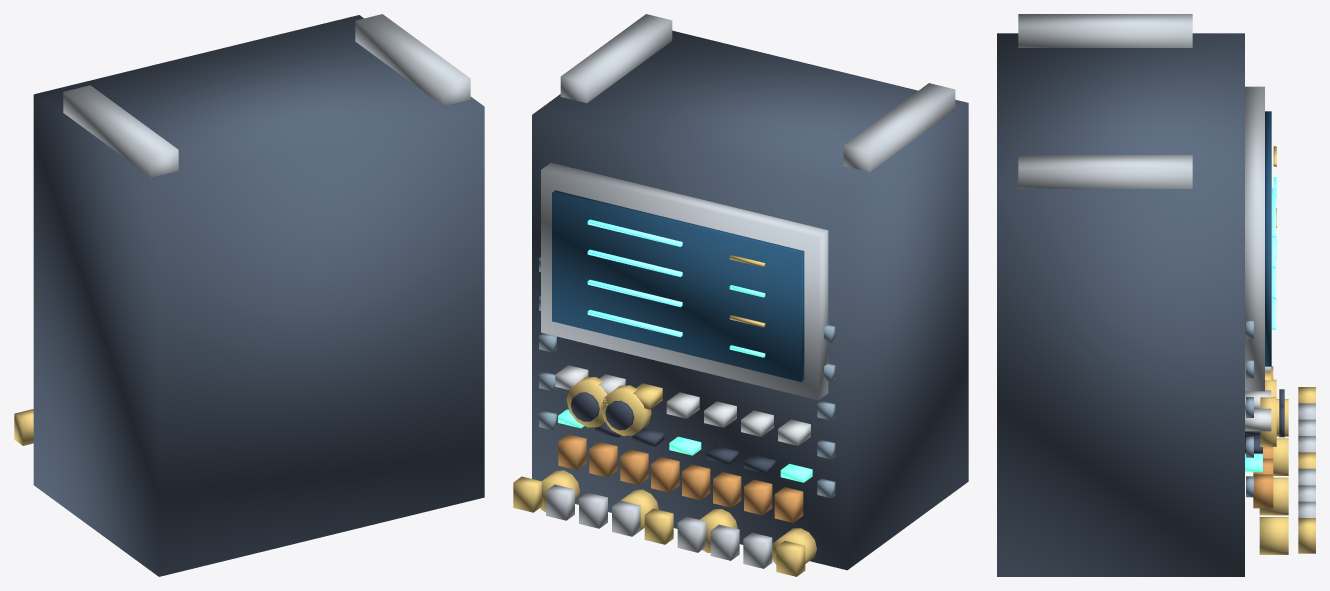
The model's file is L85_71_Protected5VControlSupply_Fitted.fbx.
The picture shows the model from 3 angles, left to right: view 1: azimuth 30°, elevation 25°; view 2: azimuth 150°, elevation 25°; view 3: azimuth 270°, elevation 25°; orthographic projection. The views are drawn at different scales.
Parts seen in each view (by area): view 1: L85_Protected5VControlSupply_Static__tint1A2434, L85_Protected5VControlSupply_Static__tintA8B8C7, L85_Protected5VControlSupply_Static__tintF7B83D; view 2: L85_Protected5VControlSupply_Static__tint1A2434, L85_Protected5VControlSupply_Static__tintA8B8C7, L85_Protected5VControlSupply_Static__tint071C3B, L85_Protected5VControlSupply_Static__tintF7B83D, L85_Protected5VControlSupply_Static__tintD16621, L85_Protected5VControlSupply_Static__tintCCD9E3, L85_Protected5VControlSupply_Static__tint111724, L85_Protected5VControlSupply_Static__tint2ED9FA, L85_Protected5VControlSupply_Static__tint527391, L85_Protected5VControlSupply_Static__tint24F09C; view 3: L85_Protected5VControlSupply_Static__tint1A2434, L85_Protected5VControlSupply_Static__tintA8B8C7, L85_Protected5VControlSupply_Static__tintF7B83D, L85_Protected5VControlSupply_Static__tint071C3B, L85_Protected5VControlSupply_Static__tintD16621, L85_Protected5VControlSupply_Static__tintCCD9E3, L85_Protected5VControlSupply_Static__tint527391, L85_Protected5VControlSupply_Static__tint2ED9FA, L85_Protected5VControlSupply_Static__tint111724.
Part boxes in pixels (x1,y1,x2,y2): L85_Protected5VControlSupply_Static__tint1A2434: (33,15,484,576); L85_Protected5VControlSupply_Static__tintA8B8C7: (63,14,470,177); L85_Protected5VControlSupply_Static__tintF7B83D: (14,409,33,445); L85_Protected5VControlSupply_Static__tint1A2434: (532,30,968,570); L85_Protected5VControlSupply_Static__tintA8B8C7: (541,14,955,568); L85_Protected5VControlSupply_Static__tint071C3B: (552,190,804,381); L85_Protected5VControlSupply_Static__tintF7B83D: (513,255,816,576); L85_Protected5VControlSupply_Static__tintD16621: (558,434,803,522); L85_Protected5VControlSupply_Static__tintCCD9E3: (555,365,810,445); L85_Protected5VControlSupply_Static__tint111724: (571,392,775,473); L85_Protected5VControlSupply_Static__tint2ED9FA: (587,219,682,337); L85_Protected5VControlSupply_Static__tint527391: (539,257,835,498); L85_Protected5VControlSupply_Static__tint24F09C: (558,285,812,482); L85_Protected5VControlSupply_Static__tint1A2434: (997,33,1244,576); L85_Protected5VControlSupply_Static__tintA8B8C7: (1018,14,1315,517); L85_Protected5VControlSupply_Static__tintF7B83D: (1259,146,1315,554); L85_Protected5VControlSupply_Static__tint071C3B: (1265,111,1271,366); L85_Protected5VControlSupply_Static__tintD16621: (1253,366,1273,508); L85_Protected5VControlSupply_Static__tintCCD9E3: (1245,366,1271,431); L85_Protected5VControlSupply_Static__tint527391: (1246,321,1253,497); L85_Protected5VControlSupply_Static__tint2ED9FA: (1272,188,1276,329); L85_Protected5VControlSupply_Static__tint111724: (1245,389,1284,453).
Bounding box in the file's own units: 9.2 × 11.13 × 7.89.
